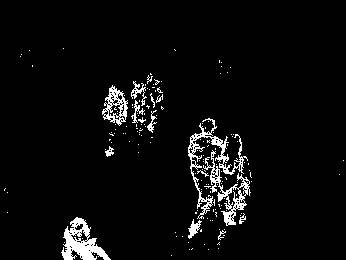person: (190, 117, 224, 241), (217, 132, 251, 239), (132, 72, 164, 157), (61, 215, 112, 260), (102, 86, 127, 158)
